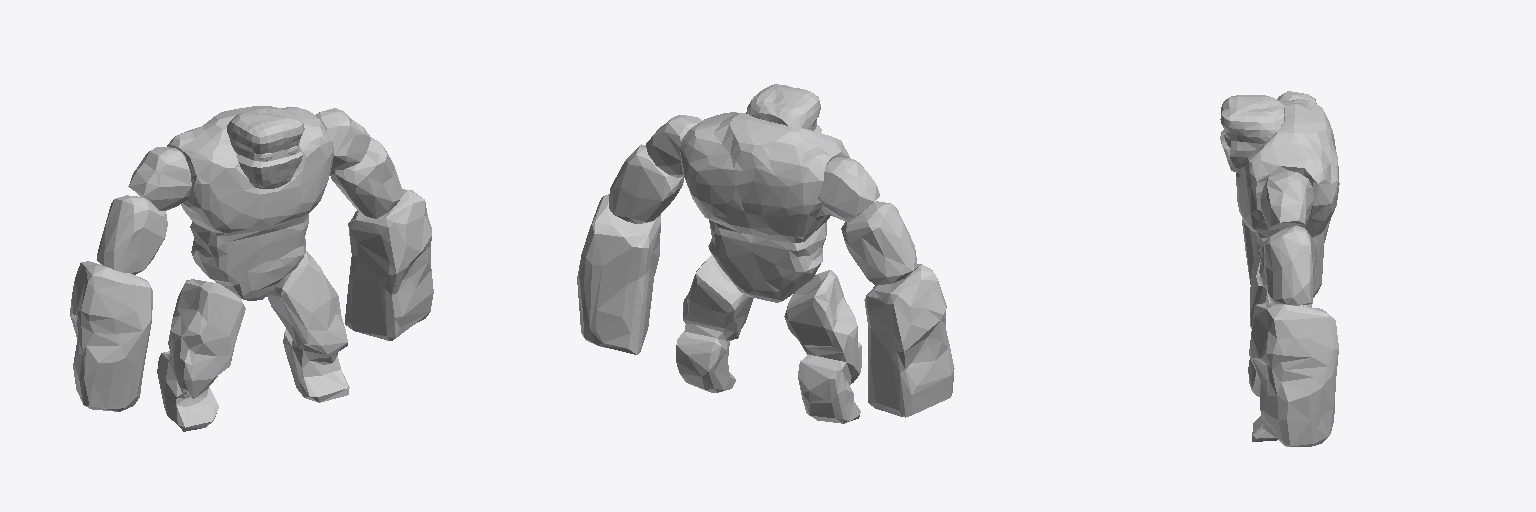
File: giant.obj
3 views of the same model, side by side, from view 1: azimuth 30°, elevation 25°; view 2: azimuth 150°, elevation 25°; view 3: azimuth 270°, elevation 25° (orthographic).
Parts seen in each view (by area): view 1: hands&leg.001_ice.003, torso.001_ice.005, head.001_ice.004; view 2: hands&leg.001_ice.003, torso.001_ice.005, head.001_ice.004; view 3: hands&leg.001_ice.003, torso.001_ice.005, head.001_ice.004.
Part boxes in pixels (bbox=[...]): hands&leg.001_ice.003: bbox=[70, 108, 433, 431]; torso.001_ice.005: bbox=[167, 106, 333, 300]; head.001_ice.004: bbox=[227, 108, 304, 188]; hands&leg.001_ice.003: bbox=[577, 115, 954, 423]; torso.001_ice.005: bbox=[680, 112, 849, 302]; head.001_ice.004: bbox=[746, 84, 821, 132]; hands&leg.001_ice.003: bbox=[1242, 91, 1338, 446]; torso.001_ice.005: bbox=[1236, 98, 1339, 291]; head.001_ice.004: bbox=[1220, 95, 1284, 173].
Bounding box in the file's own units: 11.9 × 9.58 × 3.41.